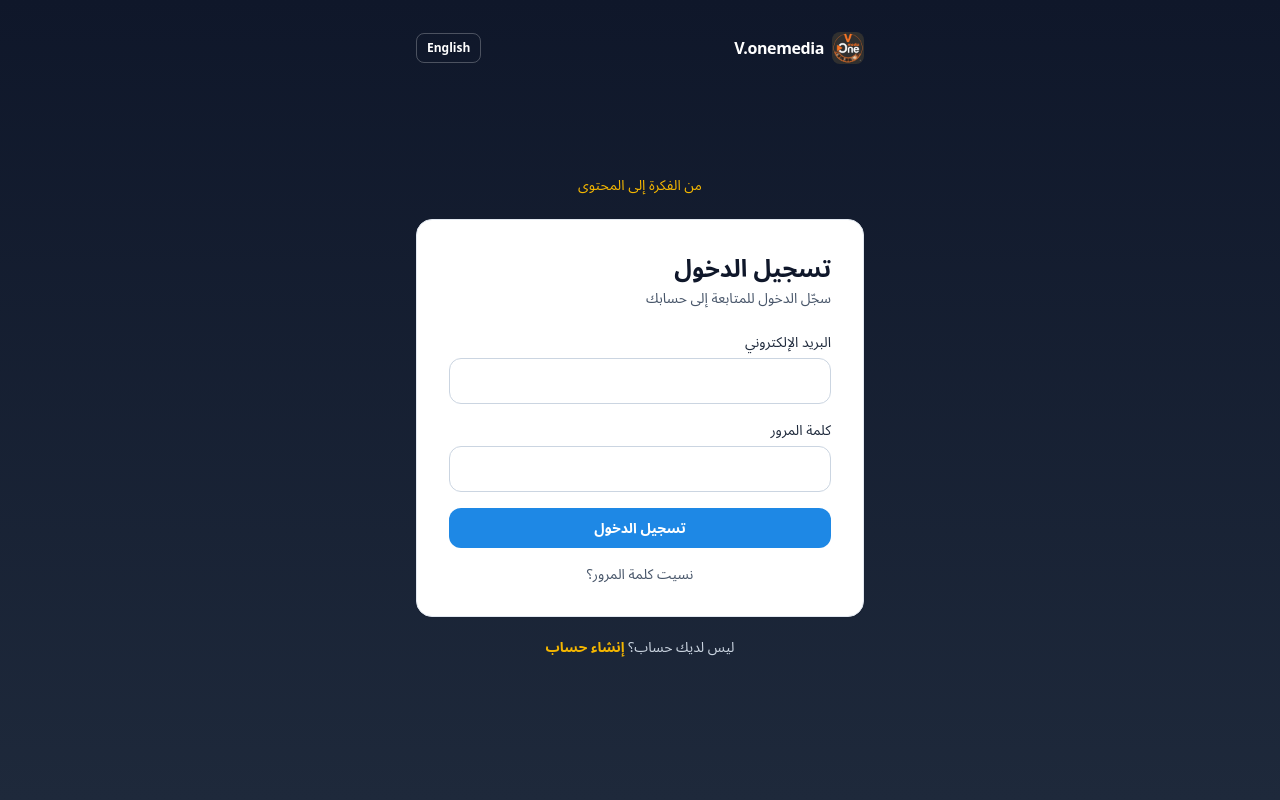
Scenario: login page › falls back to a generic message for a non-API failure
The width and height of the screenshot is (1280, 800).
In the field labelled "البريد الإلكتروني": (640, 381) [449,358,831,404], type "  adel@example.com  "
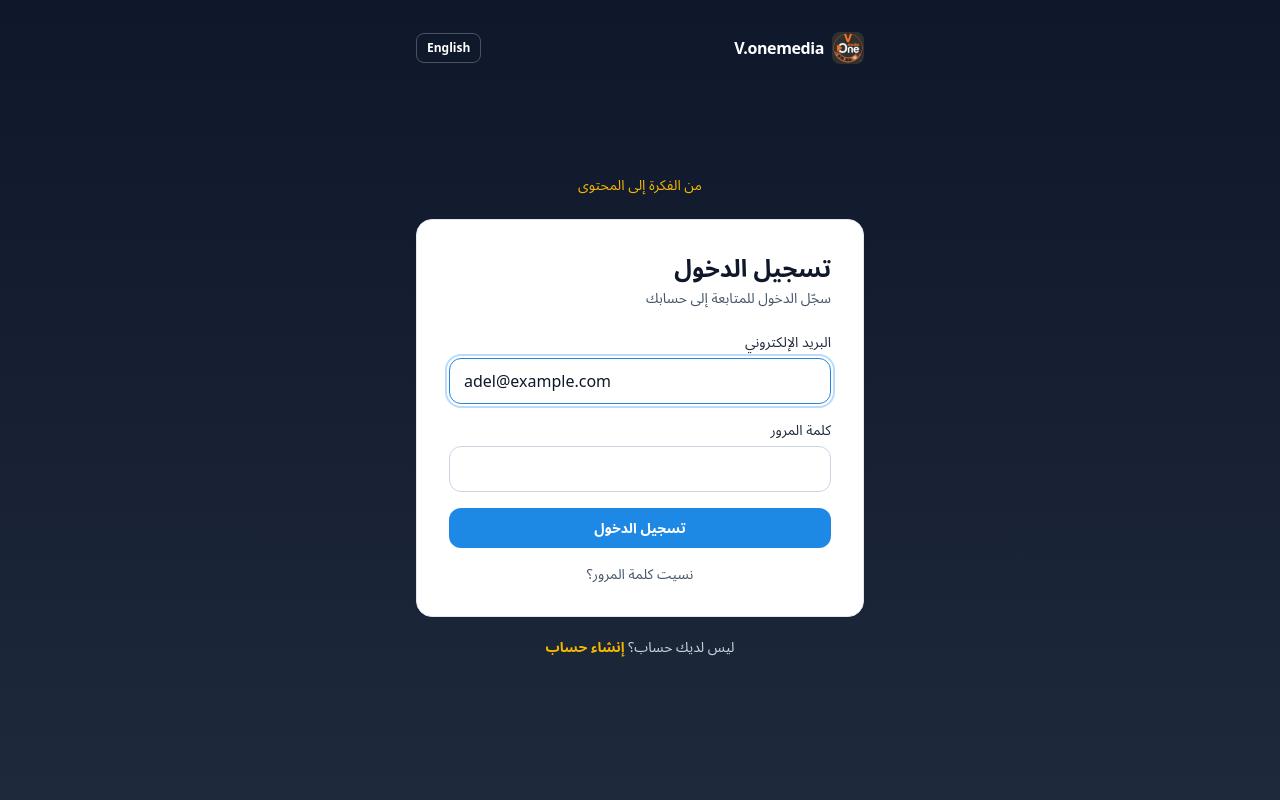
In the password field labelled "كلمة المرور": (640, 469) [449,446,831,492], type "SuperSecret123"
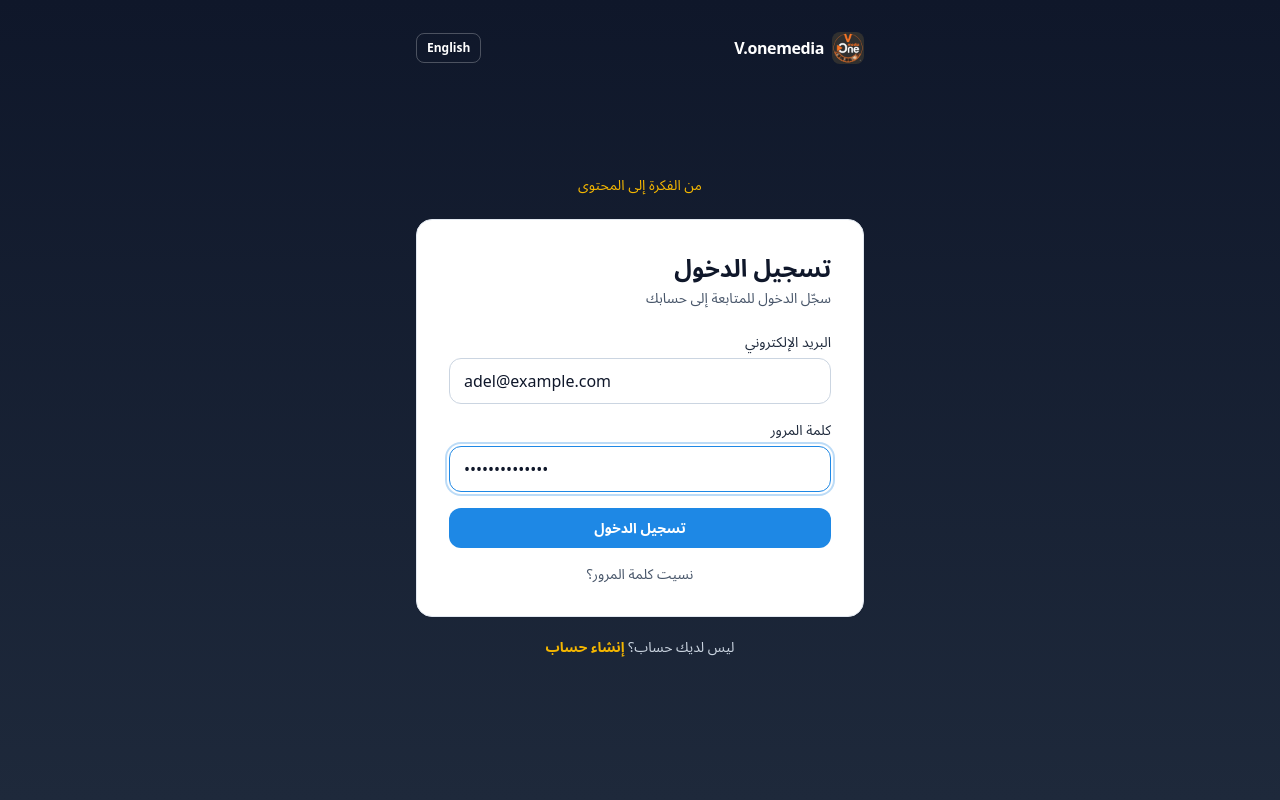
Click the button "تسجيل الدخول": (640, 528) [449,508,831,548]
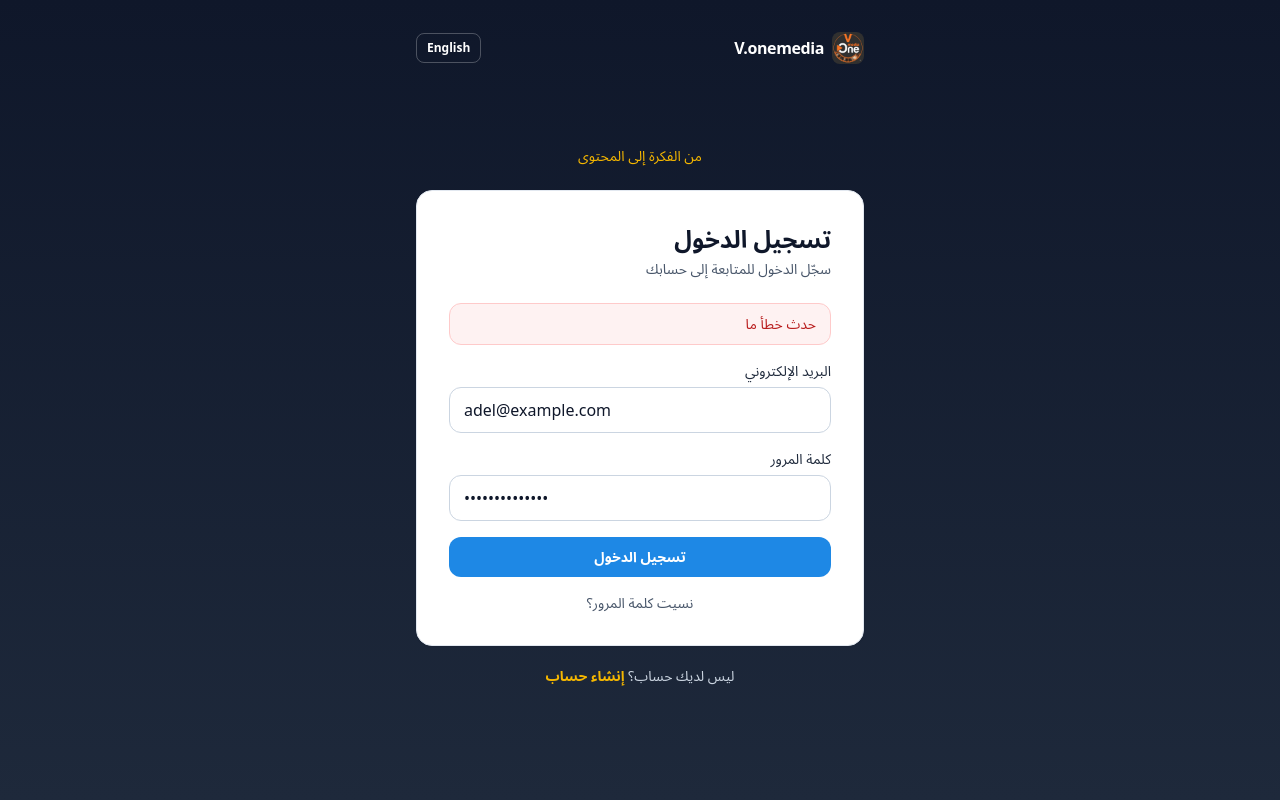
Expected: the message reads "حدث خطأ ما", [746,314,816,333]
